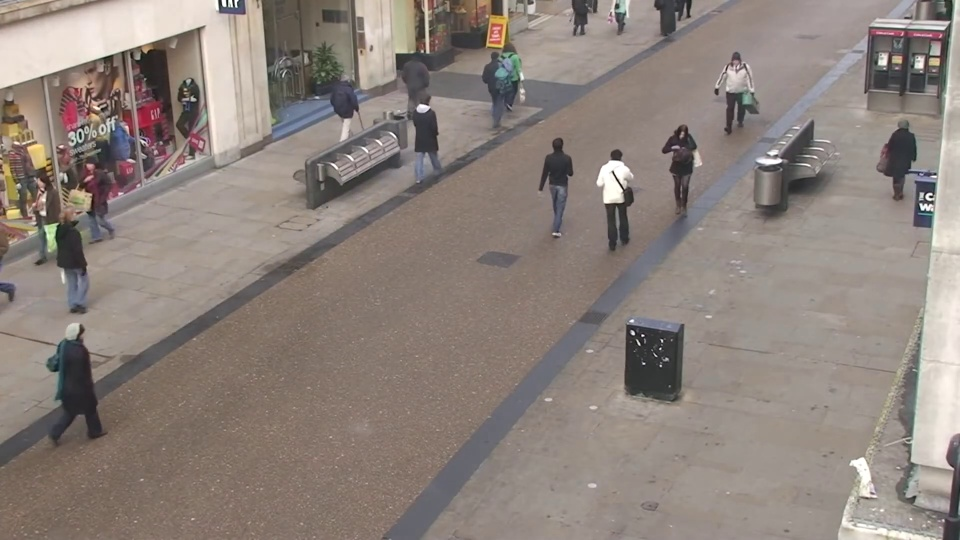pedestrian: (67, 307, 130, 451), (56, 204, 110, 320), (14, 173, 69, 281), (68, 155, 116, 258), (875, 113, 918, 211), (602, 141, 636, 245), (666, 127, 699, 226), (545, 130, 577, 230), (417, 87, 448, 174), (333, 66, 362, 147), (718, 53, 746, 133), (406, 48, 434, 124), (486, 48, 513, 125), (500, 39, 526, 113)
